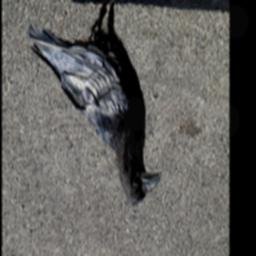Crow: (26, 0, 162, 209)
